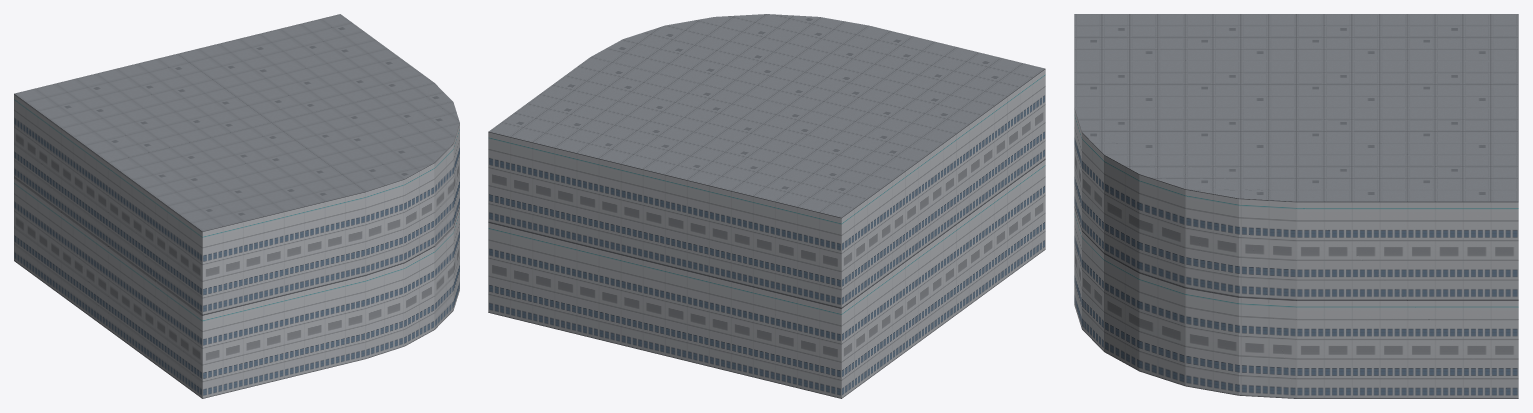
The model's file is BLD_POD_CornerRound.fbx.
3 renders of one model, left to right at view 1: azimuth 30°, elevation 25°; view 2: azimuth 150°, elevation 25°; view 3: azimuth 270°, elevation 25°, orthographic. The views are drawn at different scales.
Visible parts, largest first — view 1: BLD_POD_CornerRound; view 2: BLD_POD_CornerRound; view 3: BLD_POD_CornerRound.
Boxes of the visible parts, <box> form: BLD_POD_CornerRound: <box>14,14,459,398</box>; BLD_POD_CornerRound: <box>488,14,1045,398</box>; BLD_POD_CornerRound: <box>1074,14,1518,398</box>.
Bounding box in the file's own units: 100 × 49 × 100.
